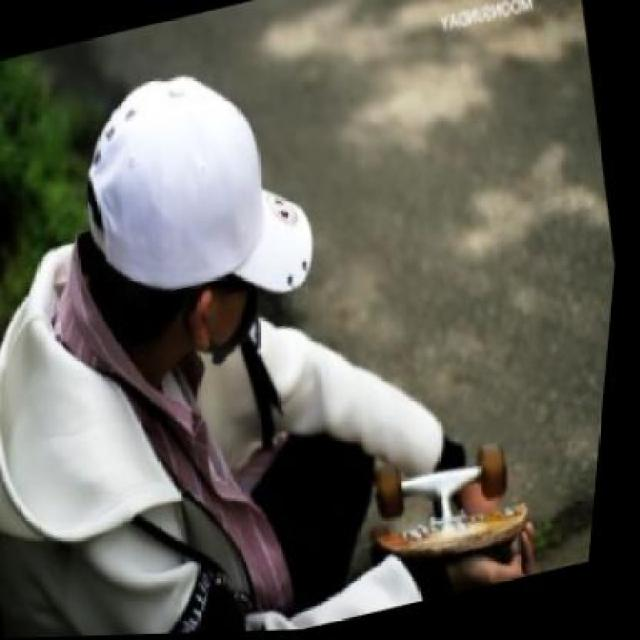hat: (56, 48, 342, 342)
